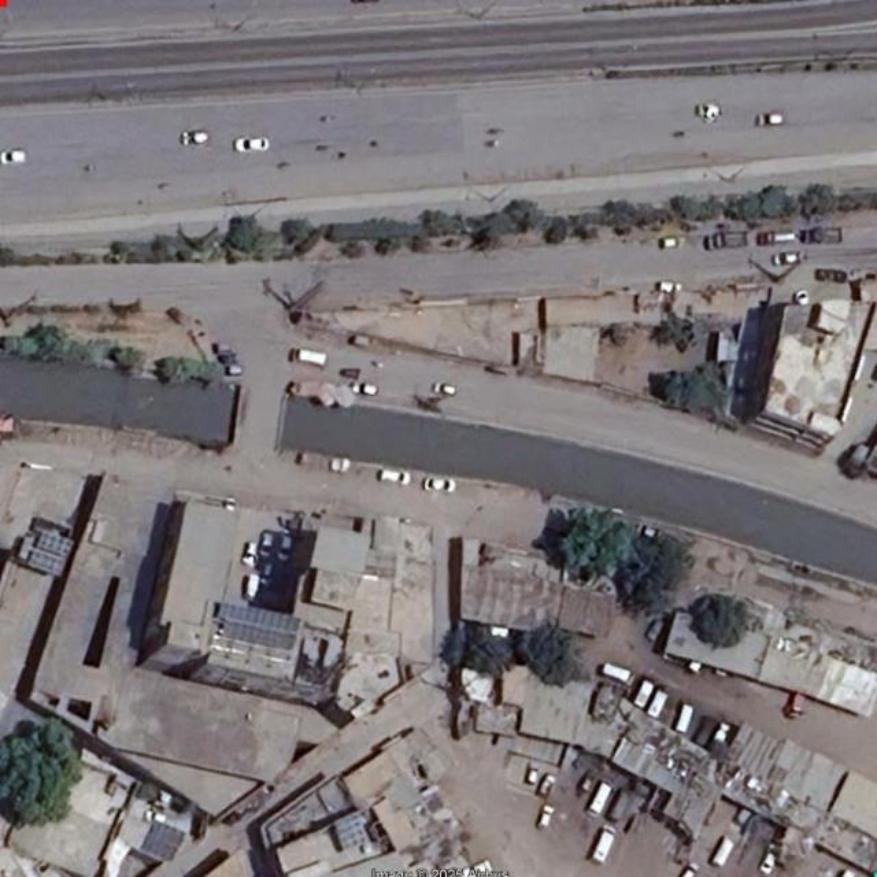Solarpanel: (207, 604, 299, 649), (29, 532, 74, 575), (143, 821, 184, 860), (336, 812, 366, 848)
